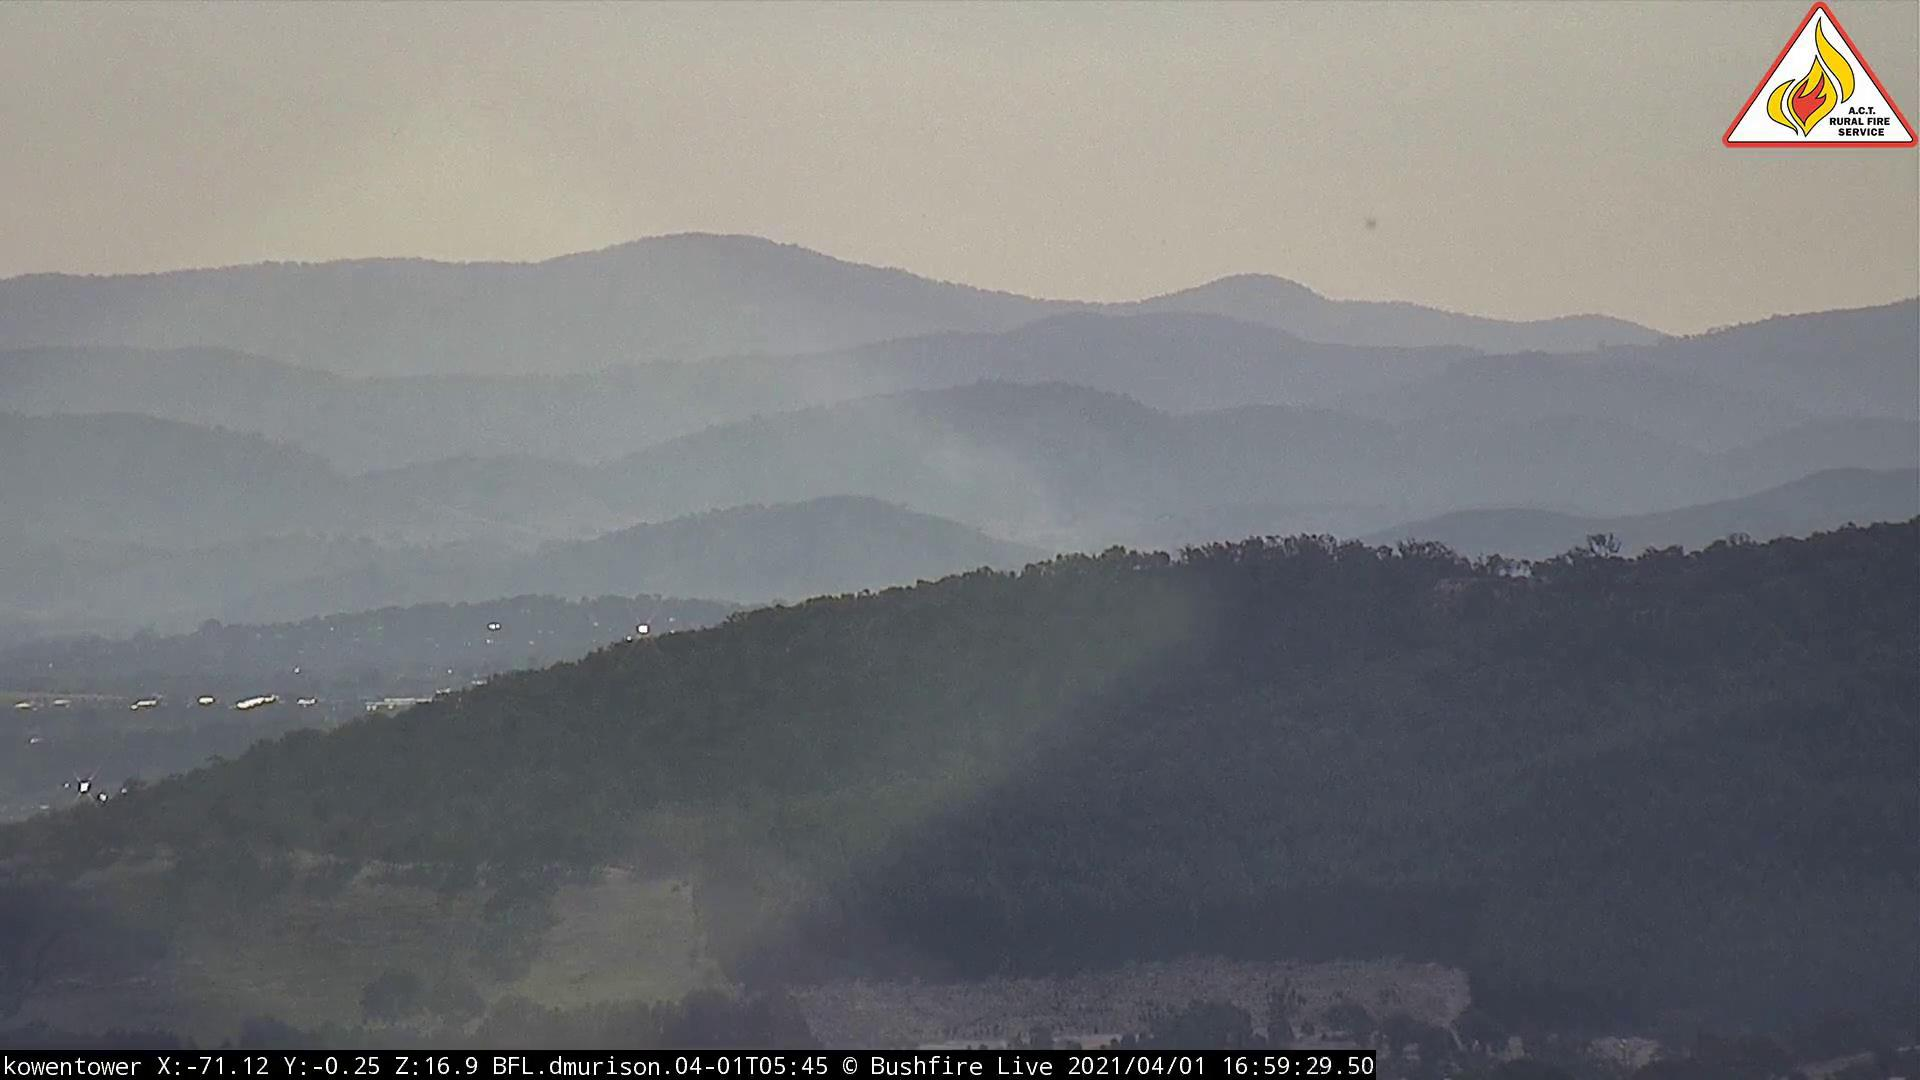Smoke: (901, 439, 1178, 629)
